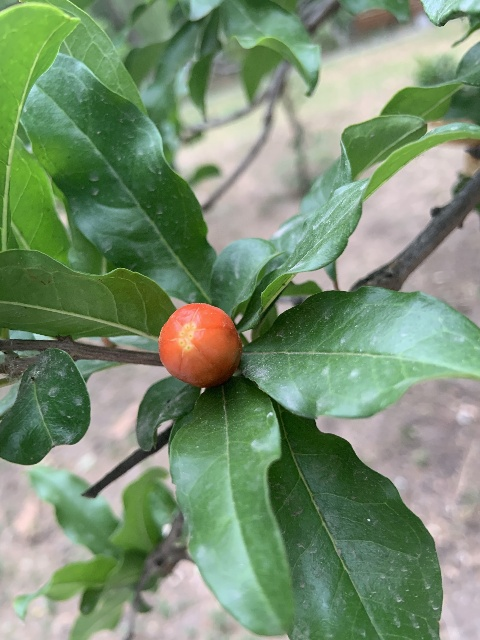bud: (158, 303, 241, 388)
